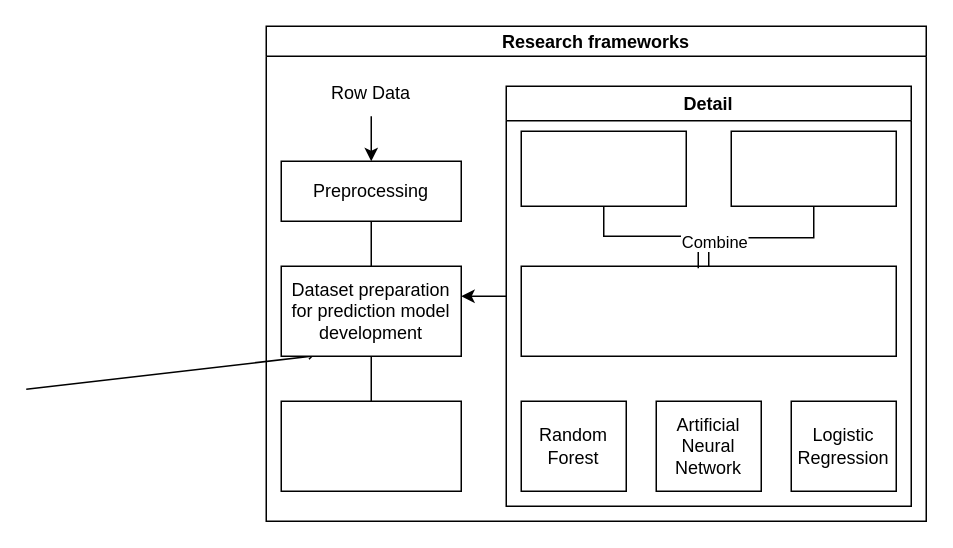
Image size: 953x548. Some labels were removed from this diagram. The shapes that lost their labels are listed below. From the top down, each one's centre as x and y in pixels, then its label:
At [603,168]: "Fail Cluster".
At [813,168]: "Normal Cluster".
At [708,310]: "Dataset for Prediction Model".
At [370,445]: "Prediction and attribute importance derivation".
